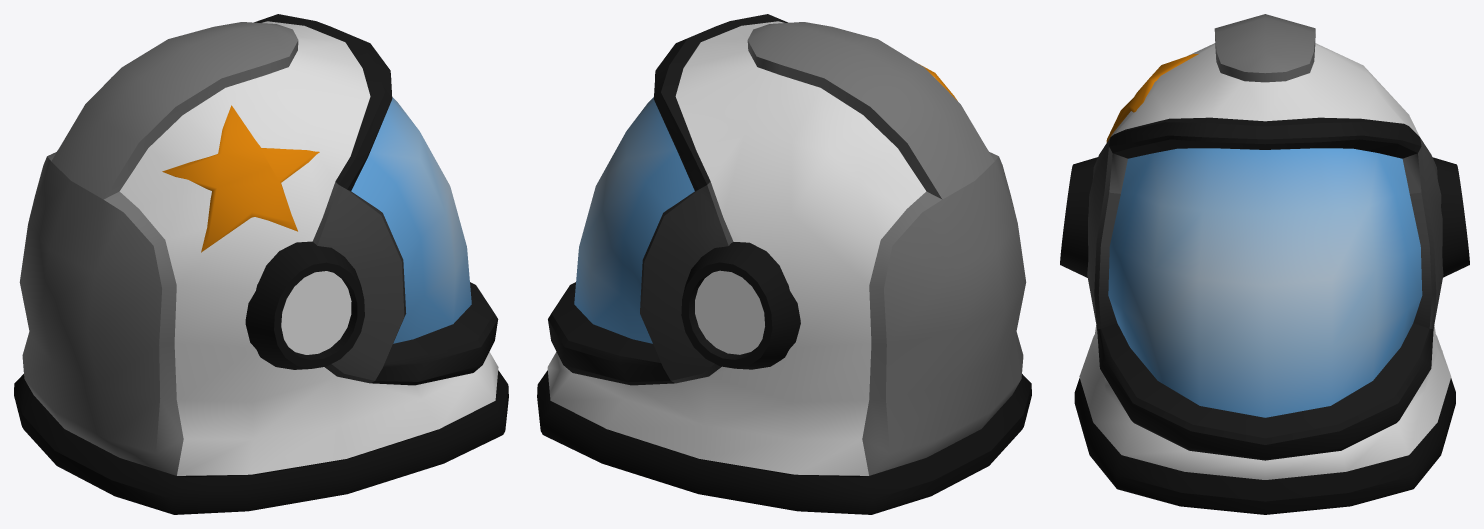
The model's file is Astronaut.glb.
3 renders of one model, left to right at view 1: azimuth 30°, elevation 25°; view 2: azimuth 150°, elevation 25°; view 3: azimuth 270°, elevation 25°, orthographic. The views are drawn at different scales.
Visible parts, largest first — view 1: MESH_Astronaut; view 2: MESH_Astronaut; view 3: MESH_Astronaut.
Boxes of the visible parts, bbox=[...] form: MESH_Astronaut: bbox=[14, 14, 508, 514]; MESH_Astronaut: bbox=[537, 14, 1031, 514]; MESH_Astronaut: bbox=[1060, 14, 1469, 514].
Size of the model in its own units: 1.75 by 1.49 by 1.5.
